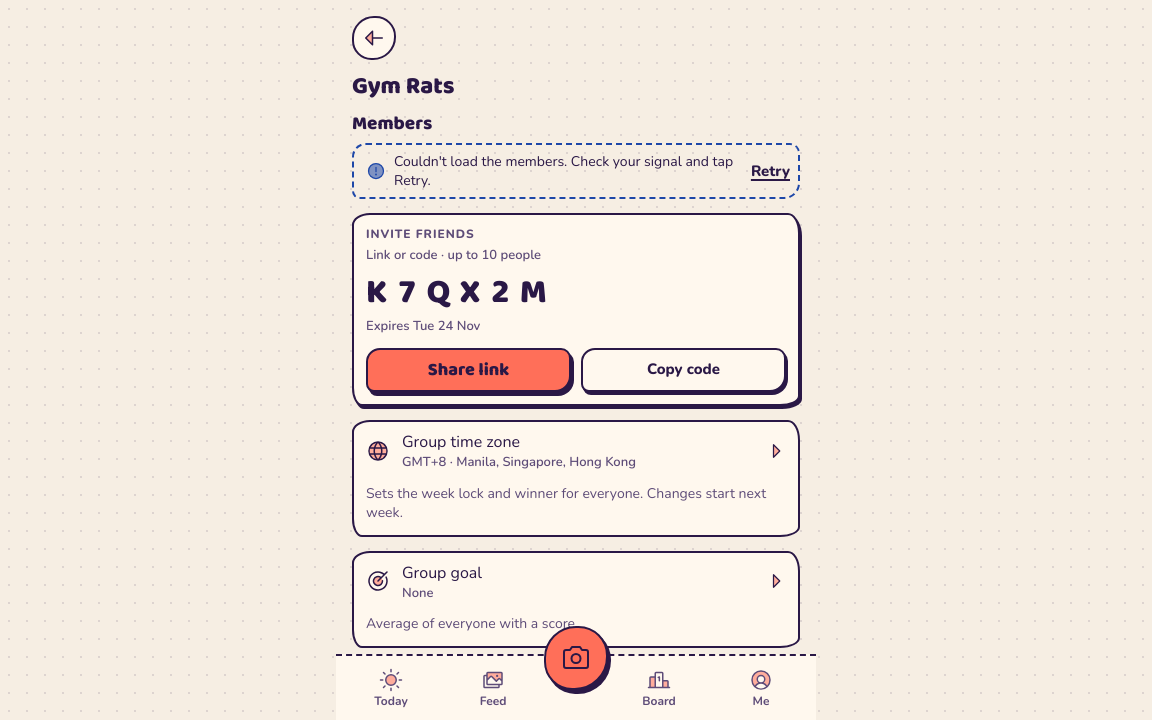
Scenario: group settings: Members (admin) › a failed members load shows Inline retry, which refetches
expect the heading "Gym Rats" is shown: met, box top-left (352, 67), bottom-right (455, 106)
expect the text "Couldn't load the members. Check your signal and tap Retry." is shown: met, box top-left (394, 152), bottom-right (739, 191)
Click the button "Retry". click: (770, 171)
box: top-left (747, 149), bottom-right (794, 193)
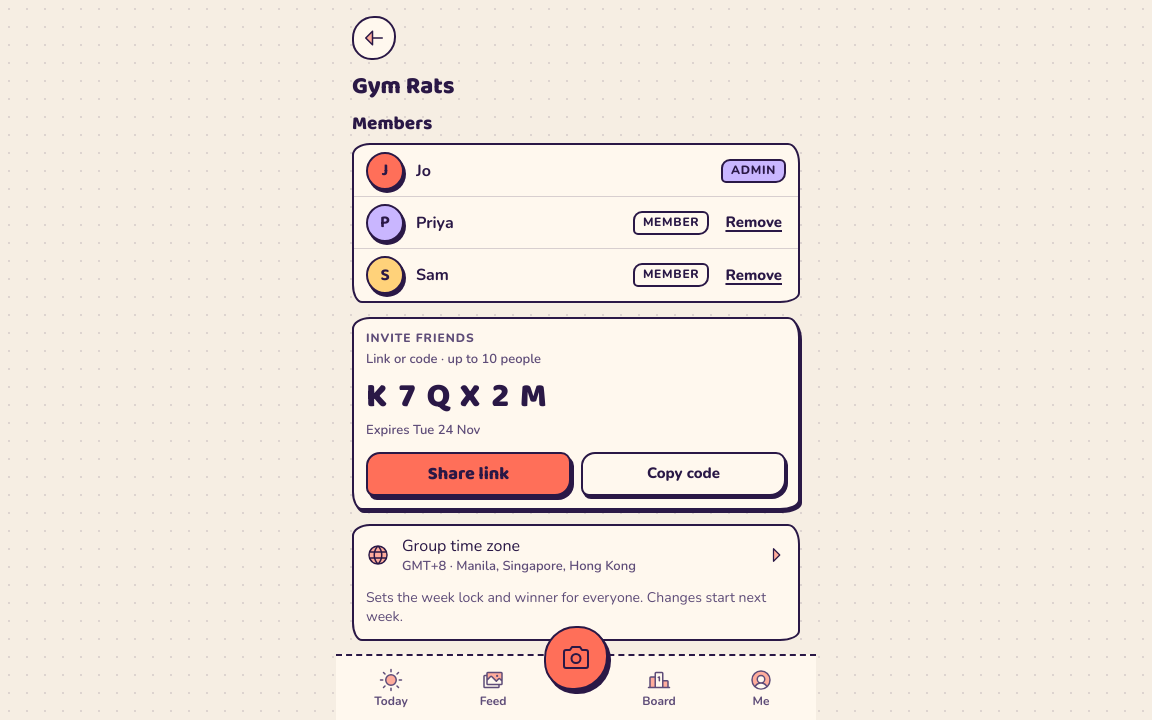
expect the text "Priya" is shown: met, box top-left (416, 212), bottom-right (454, 234)
